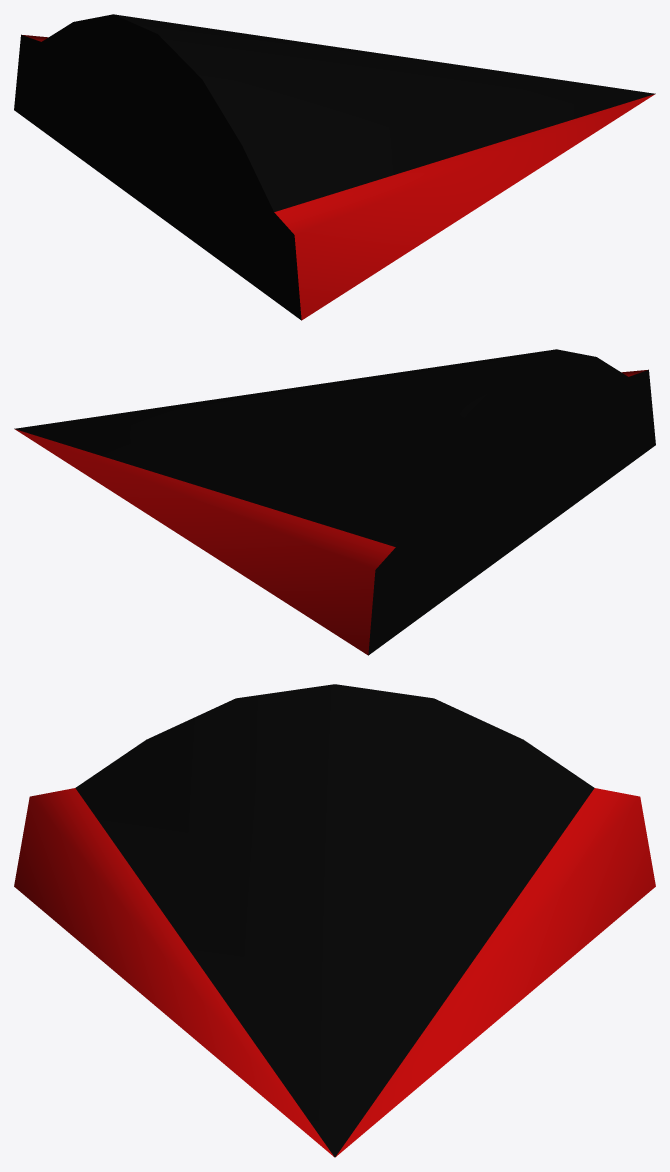
The model's file is M_Player_One.fbx.
3 renders of one model, top to bottom at view 1: azimuth 30°, elevation 25°; view 2: azimuth 150°, elevation 25°; view 3: azimuth 270°, elevation 25°, orthographic. The views are drawn at different scales.
Visible parts, largest first — view 1: pCone1; view 2: pCone1; view 3: pCone1.
Boxes of the visible parts, box(x1,y1,x2,y2) form: pCone1: box(14, 14, 655, 320); pCone1: box(14, 349, 655, 655); pCone1: box(14, 684, 655, 1157).
Bounding box in the file's own units: 200 × 69.55 × 200.
